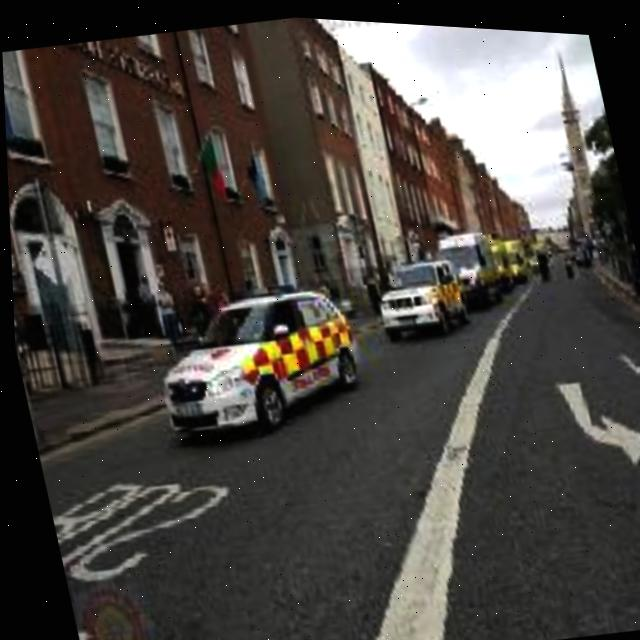emergency: (139, 269, 372, 447), (365, 250, 464, 339), (466, 214, 548, 302)
